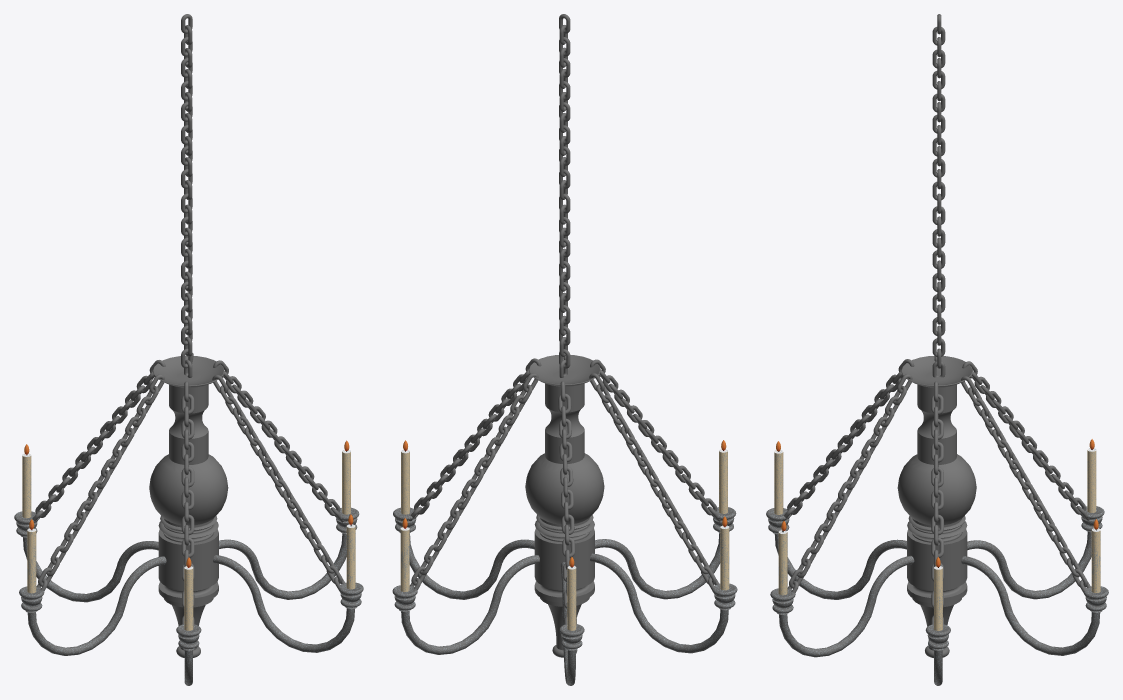
File: Chandelier.dae
3 renders of one model, left to right at view 1: azimuth 30°, elevation 25°; view 2: azimuth 150°, elevation 25°; view 3: azimuth 270°, elevation 25°, orthographic.
Visible parts, largest first — view 1: group_4 (×3), group_2 (×4), group_3 (×5); view 2: group_4 (×3), group_2 (×5), group_3 (×5); view 3: group_4 (×3), group_2 (×4), group_3 (×5).
Part boxes in pixels (x1,y1,x2,y2): group_4 (×3): (149,355,228,590); group_2 (×4): (21,532,356,655); group_3 (×5): (22,451,355,630); group_4 (×3): (525,355,604,589); group_2 (×5): (399,531,730,685); group_3 (×5): (400,451,729,630); group_4 (×3): (897,356,976,590); group_2 (×4): (772,530,1102,657); group_3 (×5): (774,450,1100,630).
Size of the model in its own units: 46.3 by 40.59 by 83.55.
